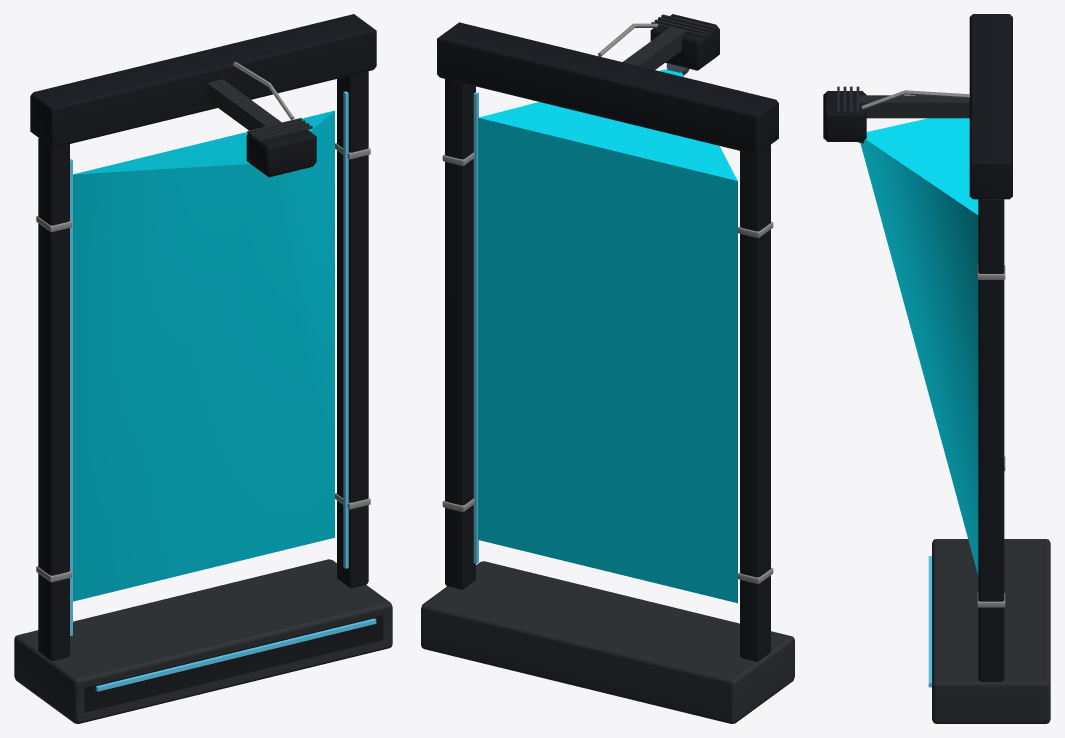
The model's file is Holo_Ad_Frame.fbx.
3 views of the same model, side by side, from view 1: azimuth 30°, elevation 25°; view 2: azimuth 150°, elevation 25°; view 3: azimuth 270°, elevation 25° (orthographic). The views are drawn at different scales.
Visible parts, largest first — view 1: Holo_Ad_Frame_LOD0; view 2: Holo_Ad_Frame_LOD0; view 3: Holo_Ad_Frame_LOD0.
Part boxes in pixels (x1,y1,x2,y2): Holo_Ad_Frame_LOD0: (14, 14, 392, 723); Holo_Ad_Frame_LOD0: (421, 14, 794, 723); Holo_Ad_Frame_LOD0: (823, 14, 1050, 723).
Size of what is drawn, in the model's own units: 1.64 by 2.93 by 1.06.
